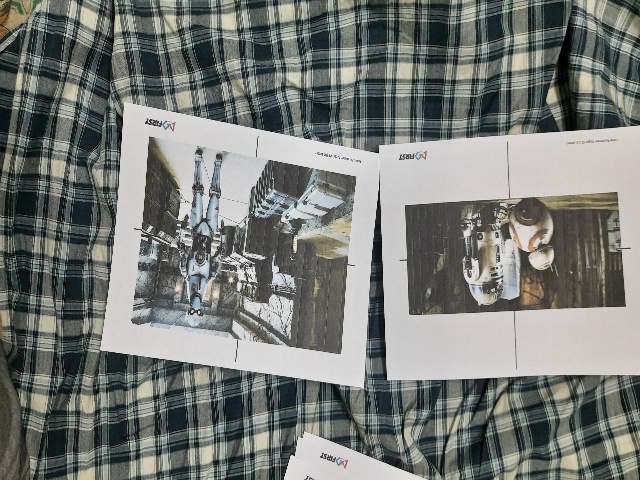fpt1: (138, 129, 359, 378)
fpt2: (393, 185, 635, 344)
